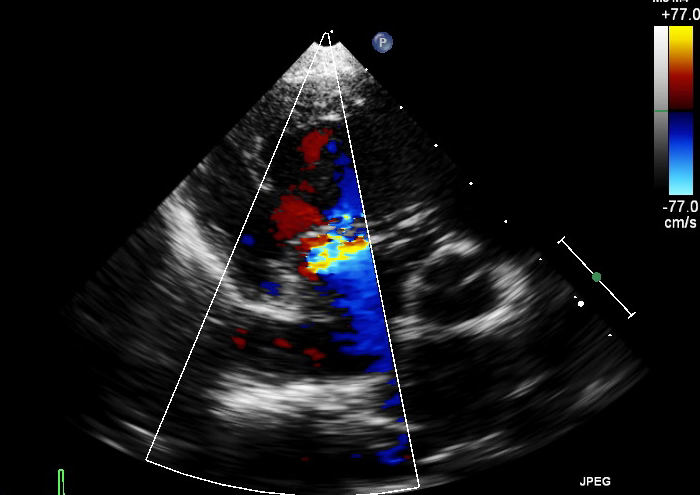TR: (307, 202, 377, 282)
